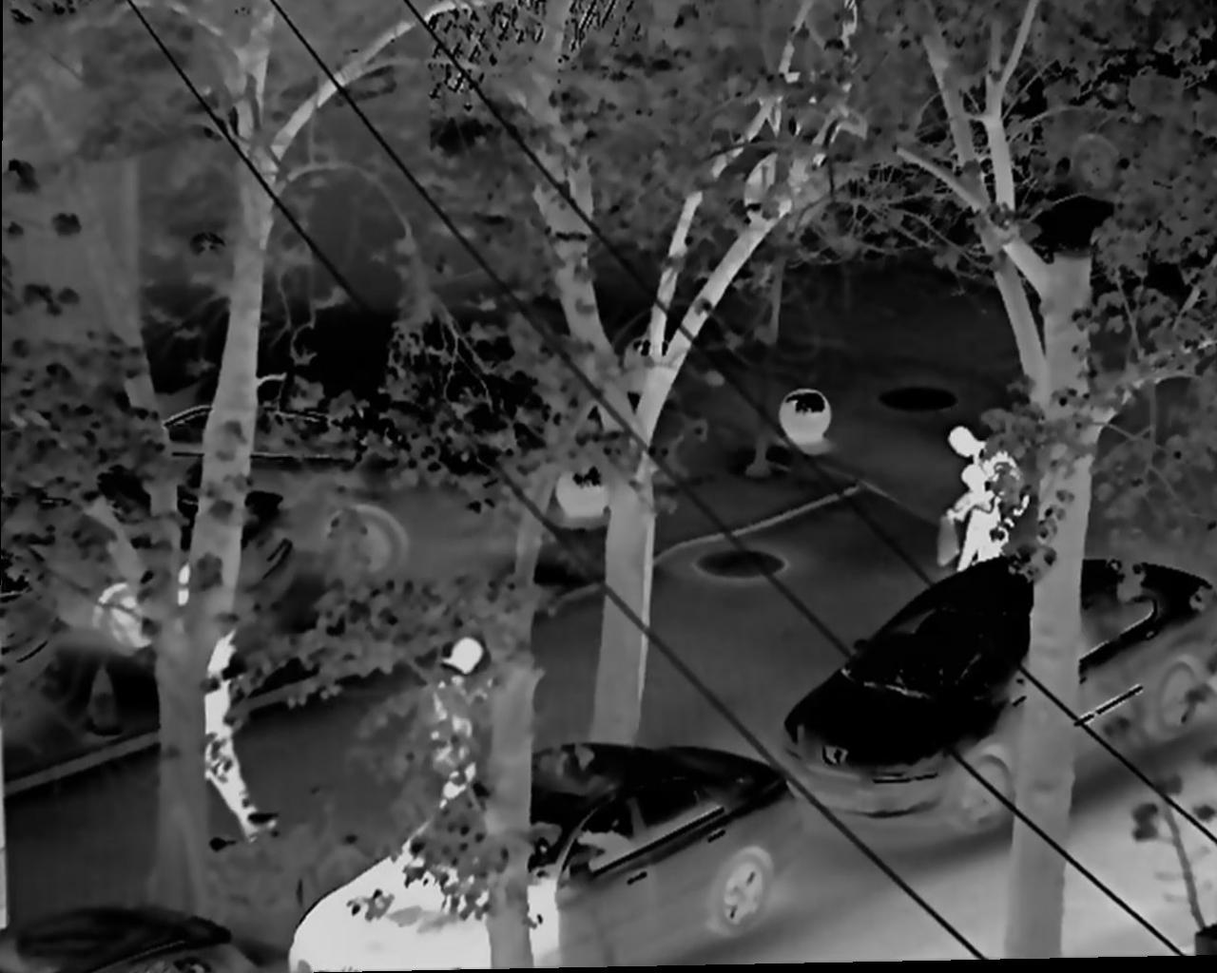person: (160, 577, 274, 841), (402, 637, 493, 845), (937, 420, 1029, 602)
